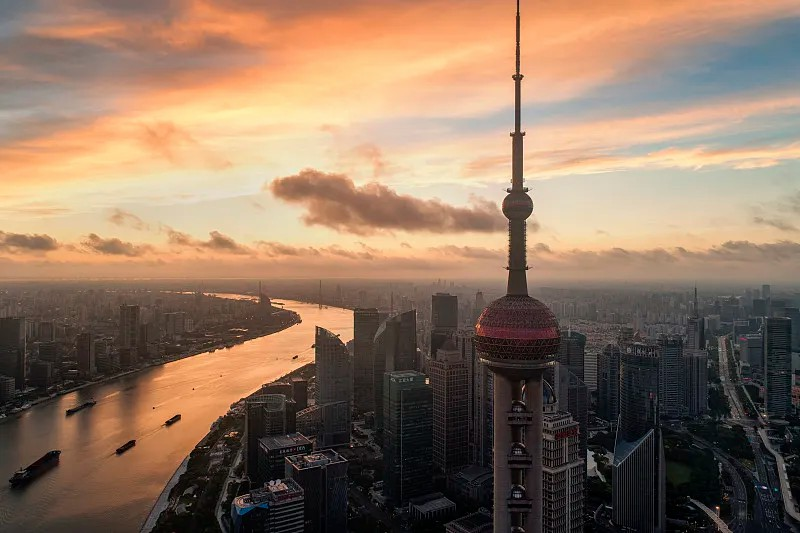Oriental: (474, 1, 563, 533)
